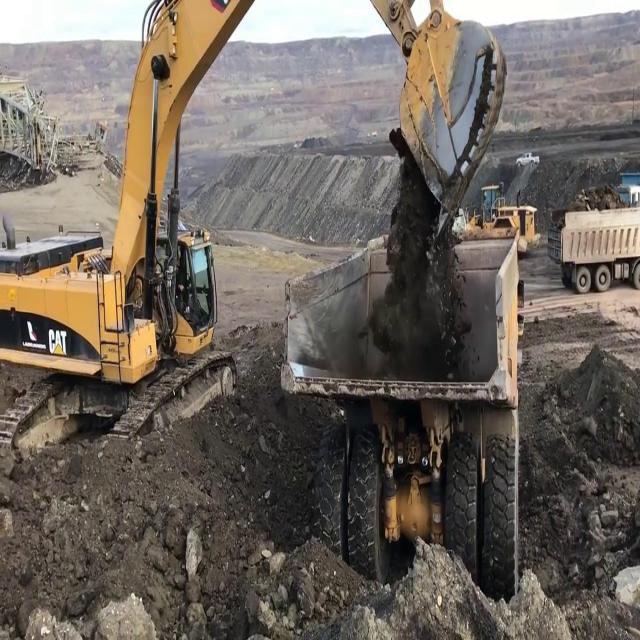Dump Truck: (279, 226, 525, 600), (546, 200, 640, 295)
Excavator: (0, 0, 510, 464)
Loader: (456, 185, 540, 256)
